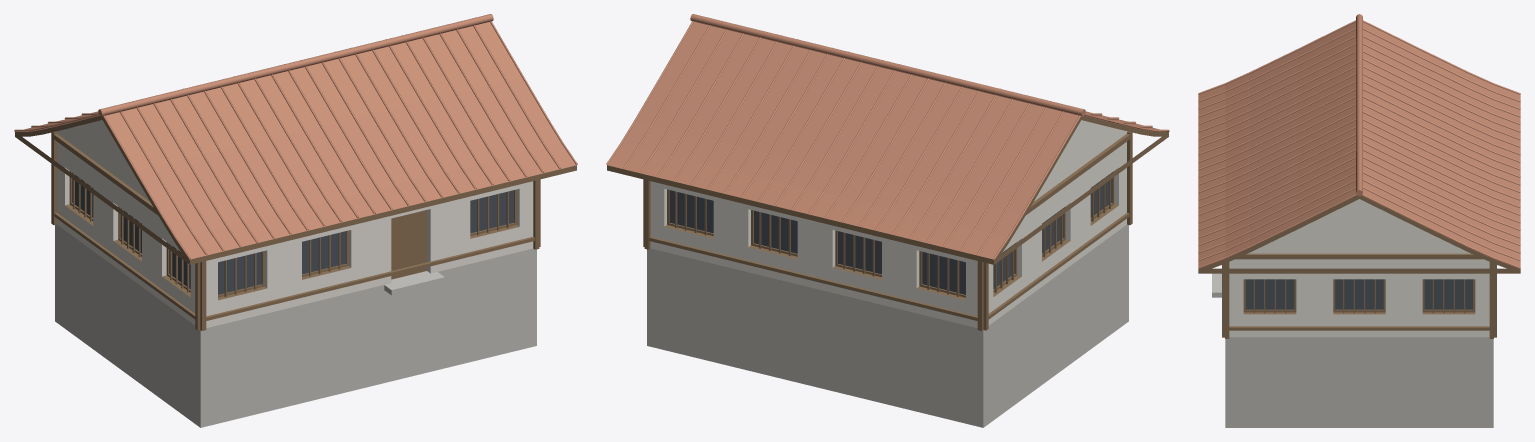
The model's file is japanese_house_1_m.glb.
The picture shows the model from 3 angles, left to right: view 1: azimuth 30°, elevation 25°; view 2: azimuth 150°, elevation 25°; view 3: azimuth 270°, elevation 25°; orthographic projection. The views are drawn at different scales.
Parts seen in each view (by area): view 1: japanese_house_1_m; view 2: japanese_house_1_m; view 3: japanese_house_1_m.
Part boxes in pixels (left/top/right/bottom): japanese_house_1_m: left=14, top=14, right=577, bottom=427; japanese_house_1_m: left=606, top=14, right=1169, bottom=427; japanese_house_1_m: left=1198, top=14, right=1520, bottom=427.
Bounding box in the file's own units: 13.96 × 9.26 × 10.83.
